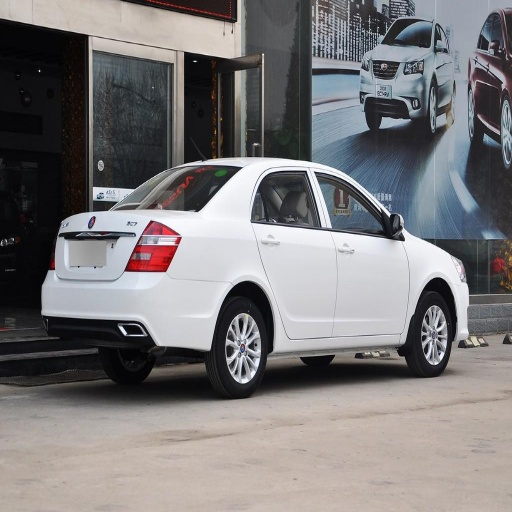back_bumper: (18, 270, 225, 353)
back_right_door: (252, 168, 336, 337)
